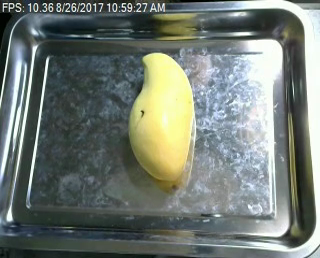Mango: (124, 49, 206, 182)
